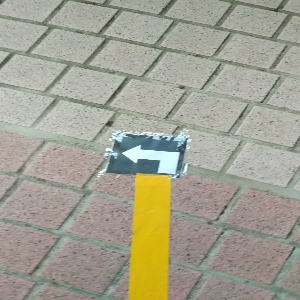left: (107, 132, 190, 177)
